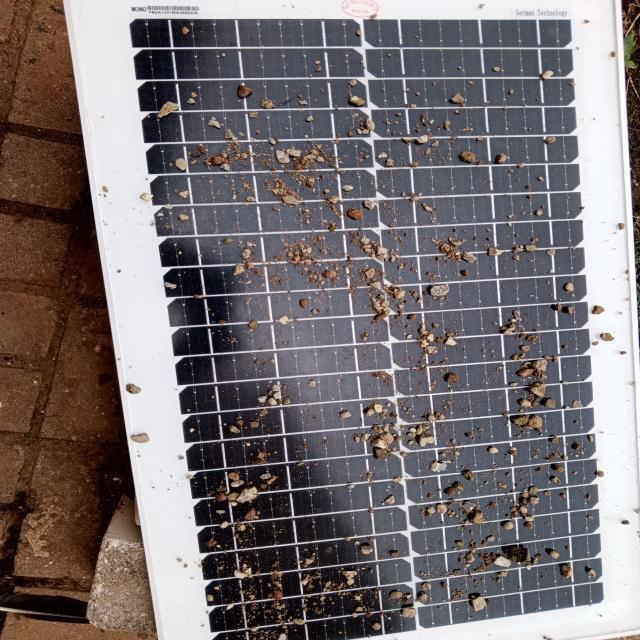Surface Contaminant: (182, 0, 607, 639)
